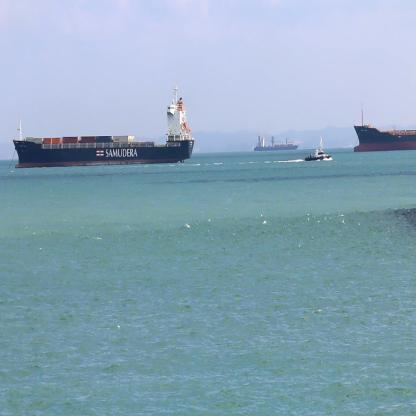Container Ship: (13, 84, 194, 169), (354, 103, 416, 153), (254, 135, 300, 152)
